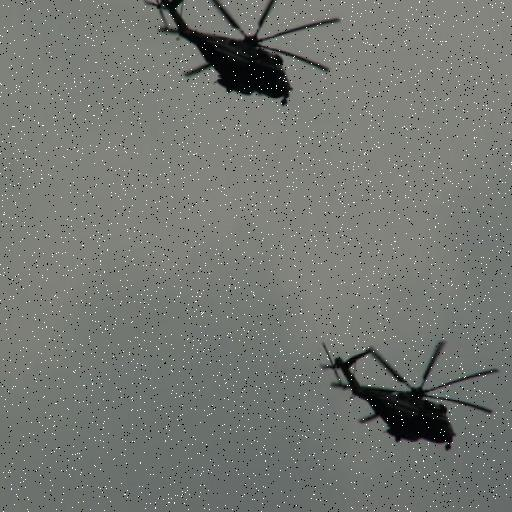helicopter: (321, 340, 506, 452), (144, 1, 339, 104)
